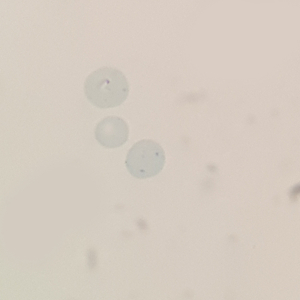erythrocyte: (93, 115, 131, 151)
punctate reticulocyte: (81, 65, 132, 110), (123, 138, 168, 181)
